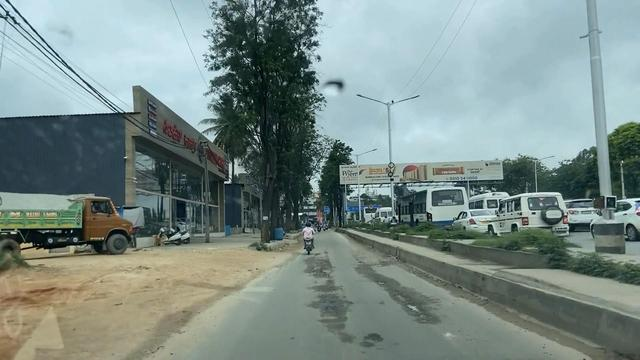HMV: (0, 202, 133, 251)
RoadDamages: (357, 253, 431, 328), (307, 259, 348, 336), (346, 329, 401, 353)
